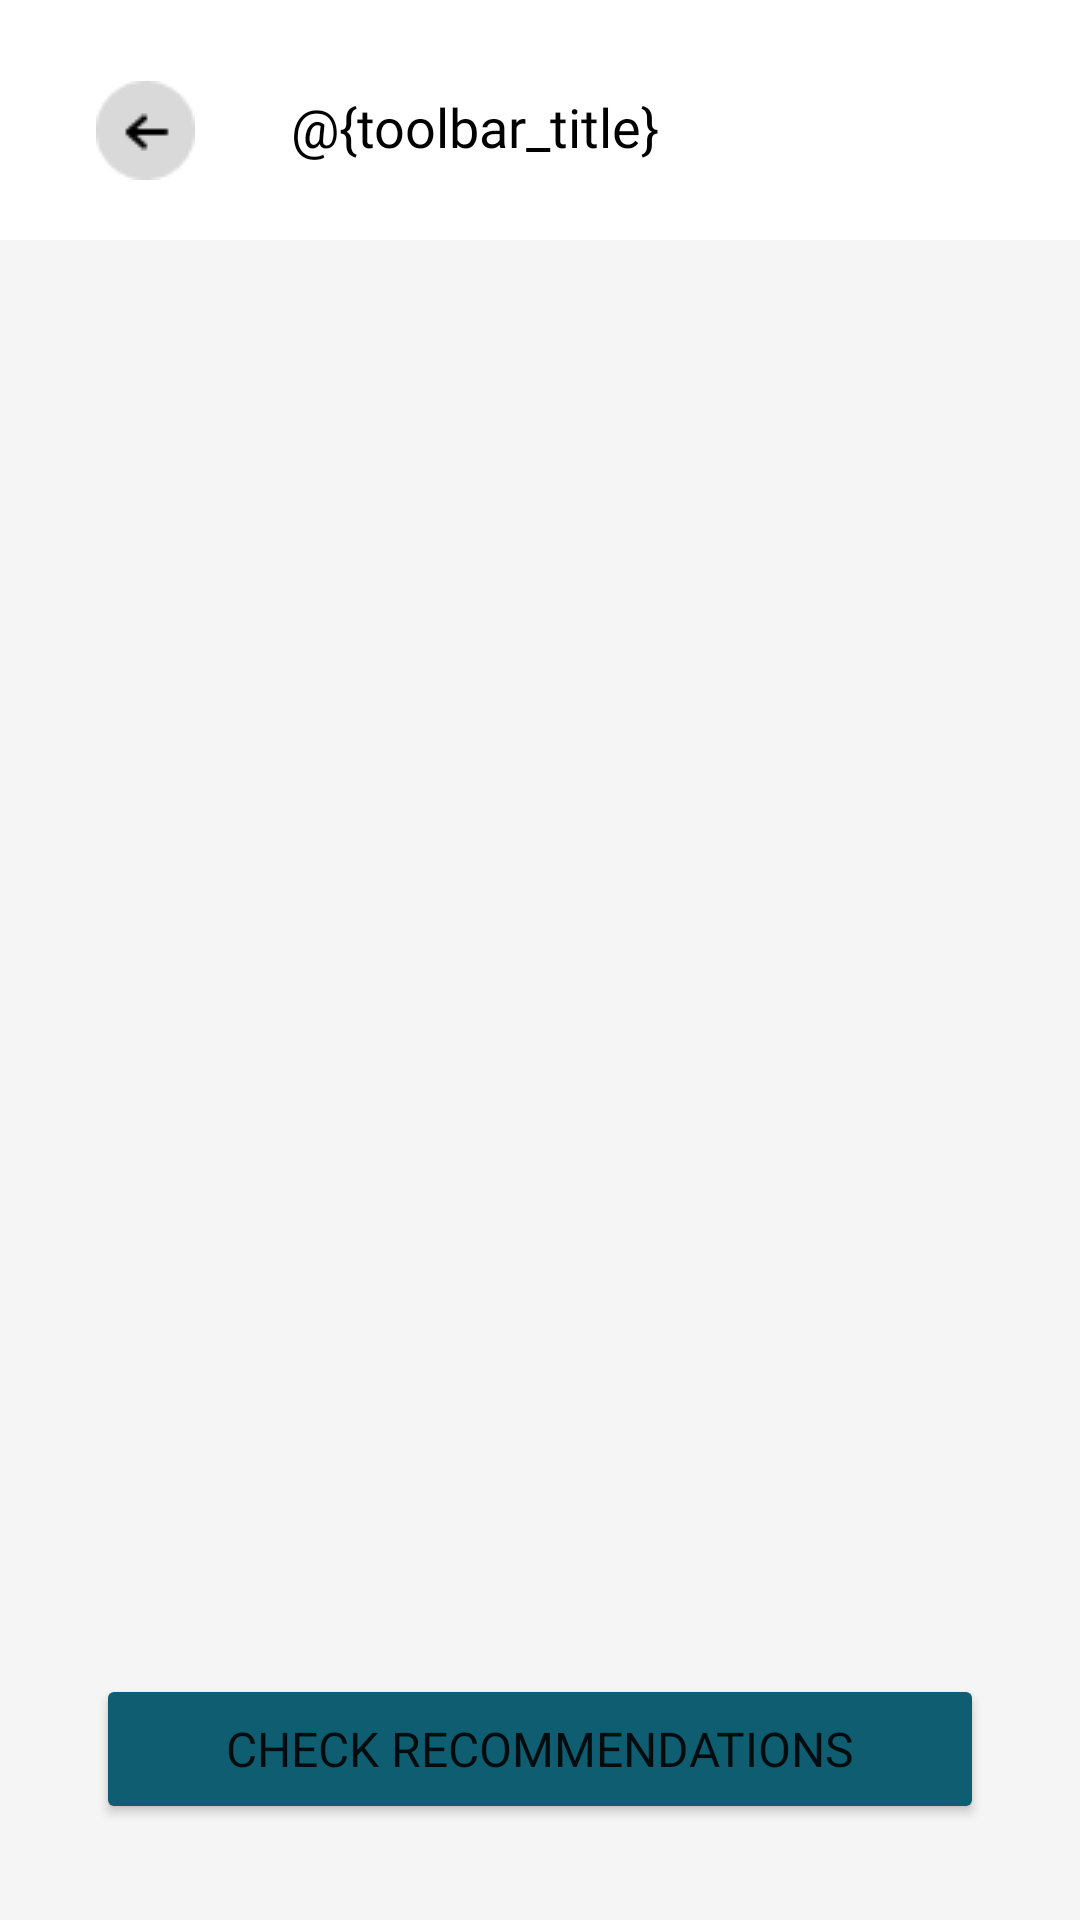

Icons on this 1080×1920 Android screen, each with its box as (x1, y1, x2, y2):
back: (96, 81, 195, 180)
